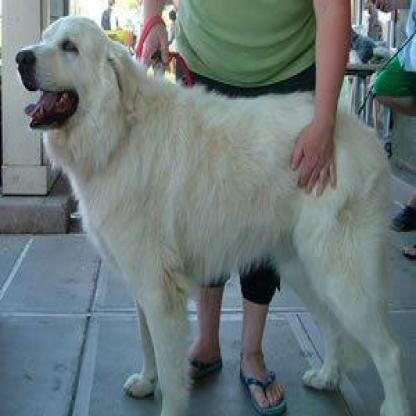Great_Pyrenees: (8, 7, 414, 407)
